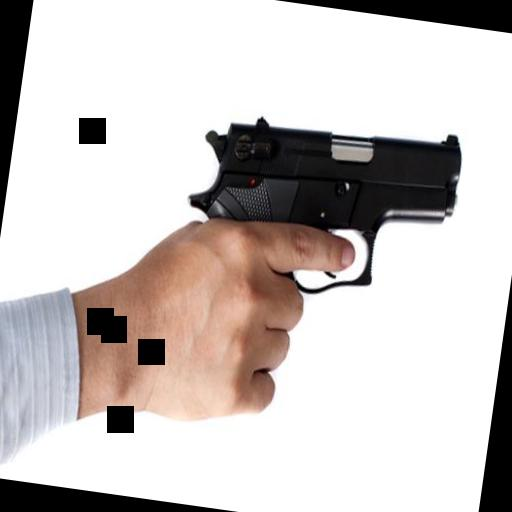Handgun: (175, 98, 468, 314)
